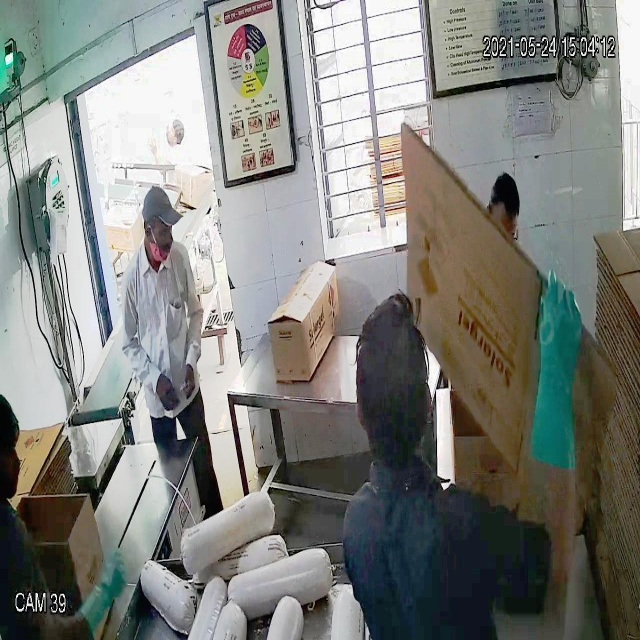Sin_gafas: (137, 220, 178, 248)
